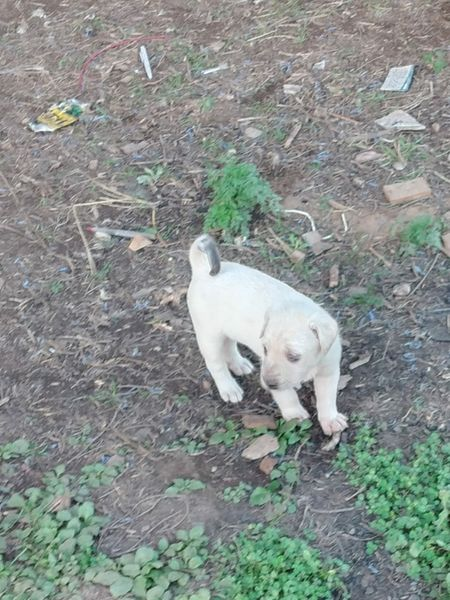dog: (171, 224, 361, 471)
